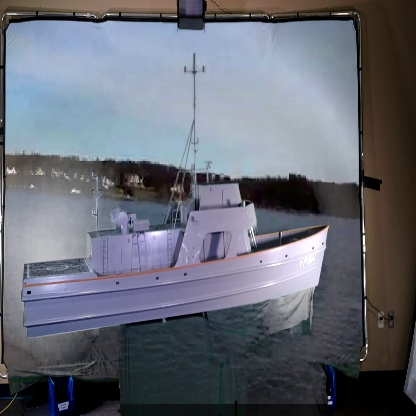YP689: (19, 45, 330, 343)
